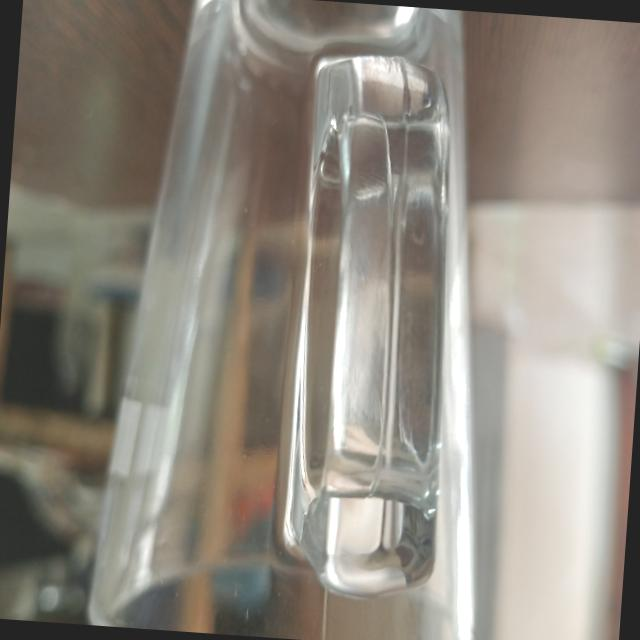glass-VX4N: (81, 0, 517, 640)
